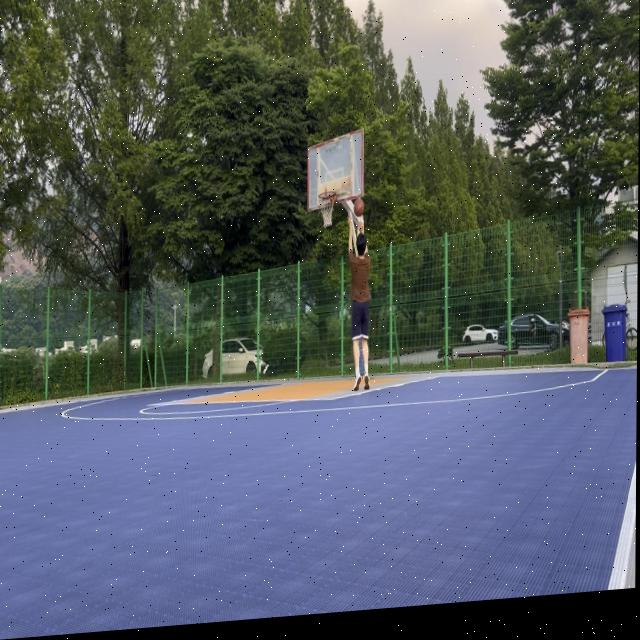basketball: (353, 198, 364, 218)
hoop: (318, 190, 337, 229)
